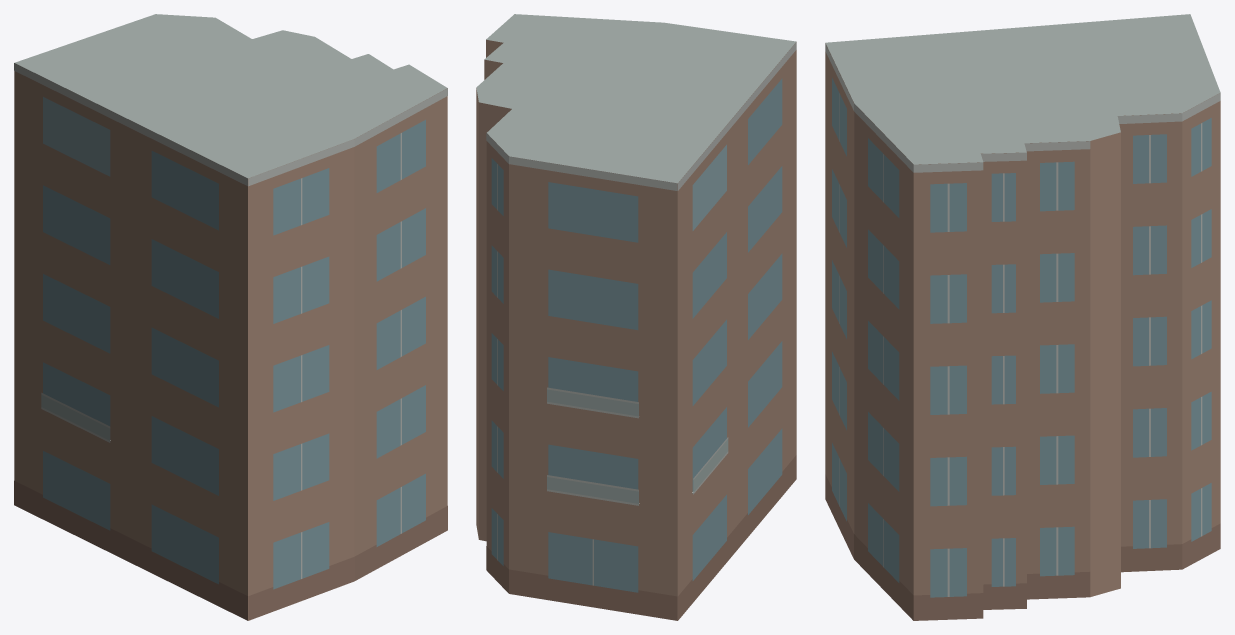
Rendered from survey-upis-32680752.glb.
3 renders of one model, left to right at view 1: azimuth 30°, elevation 25°; view 2: azimuth 150°, elevation 25°; view 3: azimuth 270°, elevation 25°, orthographic. The views are drawn at different scales.
Visible parts, largest first — view 1: survey-upis-32680752.tmp; view 2: survey-upis-32680752.tmp; view 3: survey-upis-32680752.tmp.
Boxes of the visible parts, bbox=[...] form: survey-upis-32680752.tmp: bbox=[14, 14, 447, 620]; survey-upis-32680752.tmp: bbox=[476, 14, 796, 620]; survey-upis-32680752.tmp: bbox=[825, 14, 1220, 620].
Size of the model in its own units: 9.64 by 13.6 by 10.69.
